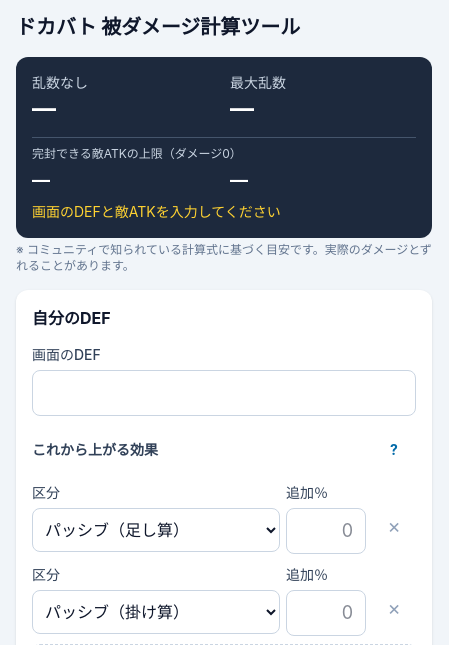
Test case: App（詳細: 反映済み％） › 閉じても値を保持して計算に使い、「入力あり」と表示する
The width and height of the screenshot is (449, 645).
Step 1. Type "10000" into the field labelled "画面のDEF" → (224, 393), box [32,370,416,416]
(page scrolled)
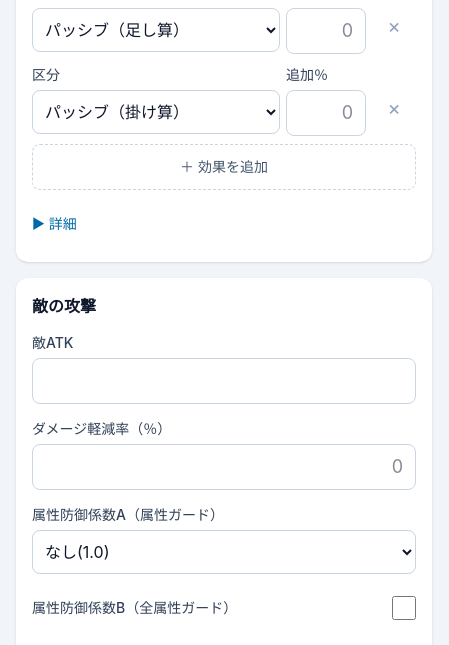
Step 2. Type "100000" into the field labelled "敵ATK" → (224, 381), box [32,358,416,404]
Step 3. Select "アクティブスキル" in the 1st dropdown labelled "区分" → (156, 30), box [32,8,280,52]
Step 4. Type "30" into the 1st field labelled "追加％" → (326, 31), box [286,8,366,54]
(page scrolled)
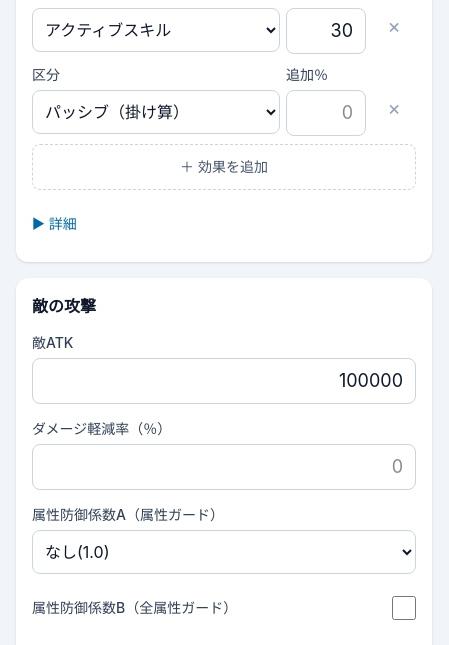
Step 5. Click the button "▶ 詳細" → click(54, 224), box [28,202,81,246]
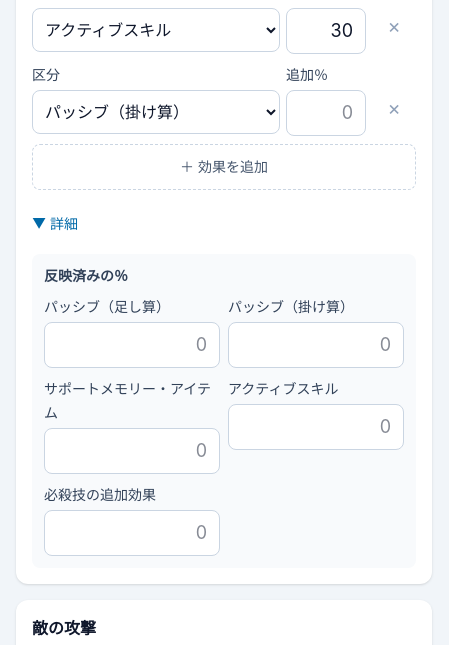
Step 6. Type "50" into the field labelled "アクティブスキル" → (316, 427), box [228,404,404,450]
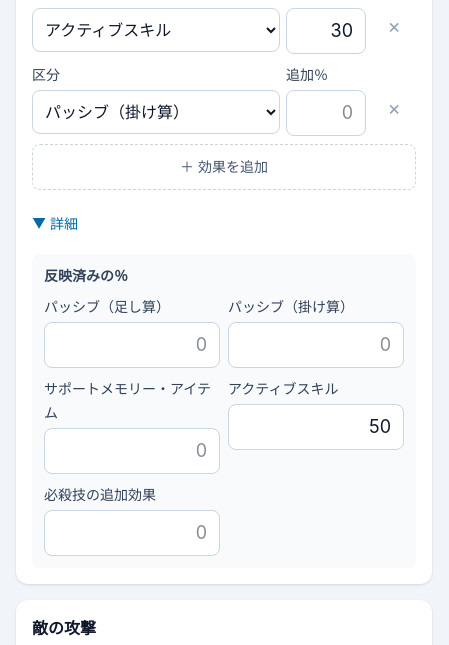
Step 7. Click the button "▼ 詳細" → click(55, 224), box [28,202,82,246]
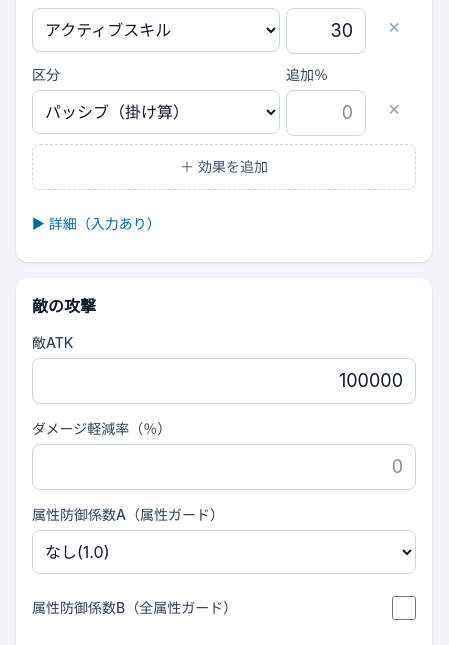
Expected: the button "▶ 詳細（入力あり）" is shown
Step 8. Click the button "▶ 詳細（入力あり）" → click(96, 224), box [28,202,165,246]
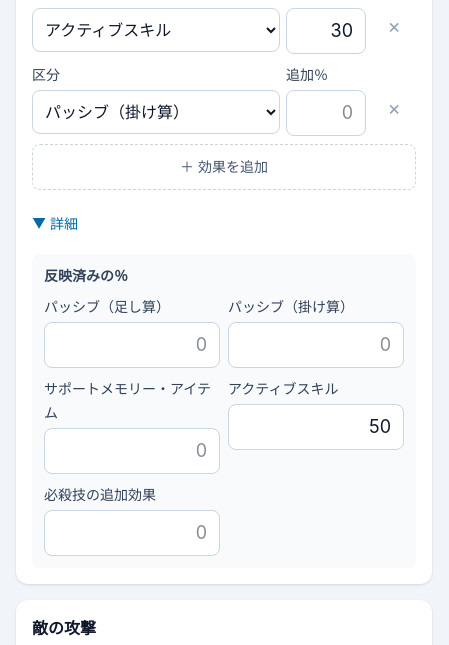
Expected: the field labelled "アクティブスキル" holds "50", [228,404,404,450]
